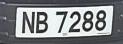2: (69, 11, 82, 34)
7: (54, 11, 68, 35)
8: (94, 9, 108, 34), (81, 10, 94, 34)
B: (36, 11, 49, 36)
N: (21, 11, 35, 36)
